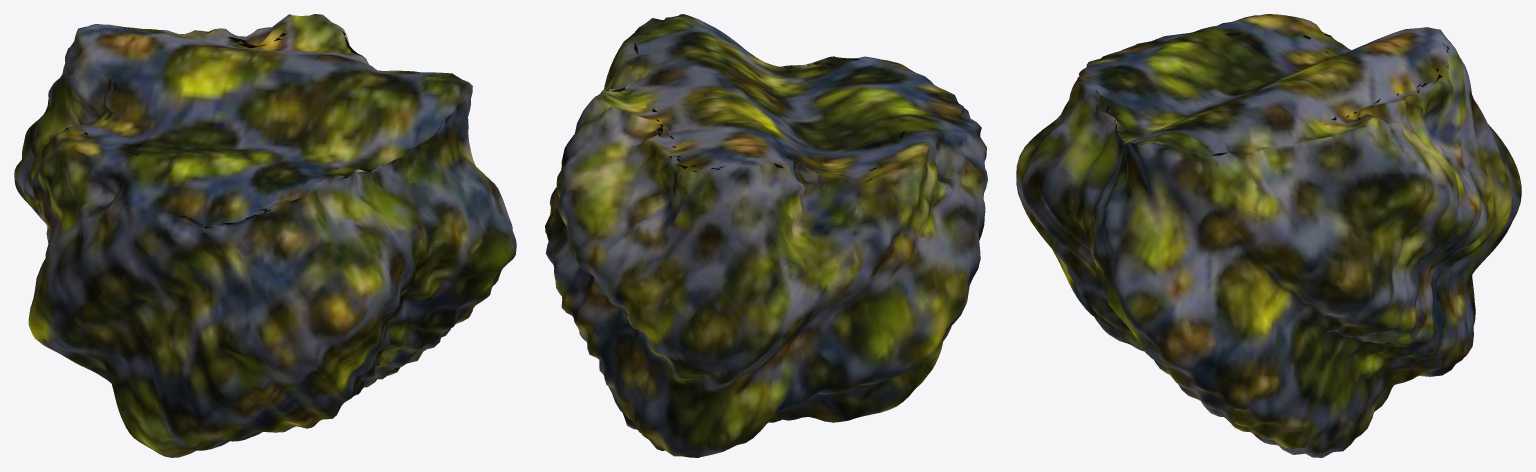
Rendered from pallasite-previous.glb.
3 views of the same model, side by side, from view 1: azimuth 30°, elevation 25°; view 2: azimuth 150°, elevation 25°; view 3: azimuth 270°, elevation 25° (orthographic). The views are drawn at different scales.
Parts seen in each view (by area): view 1: pallasite; view 2: pallasite; view 3: pallasite.
Part boxes in pixels (x1,y1,x2,y2): pallasite: [14, 14, 516, 457]; pallasite: [545, 14, 987, 457]; pallasite: [1016, 14, 1521, 457].
Size of the model in its own units: 2.07 by 1.76 by 2.28.
1 material, 1 textured.
